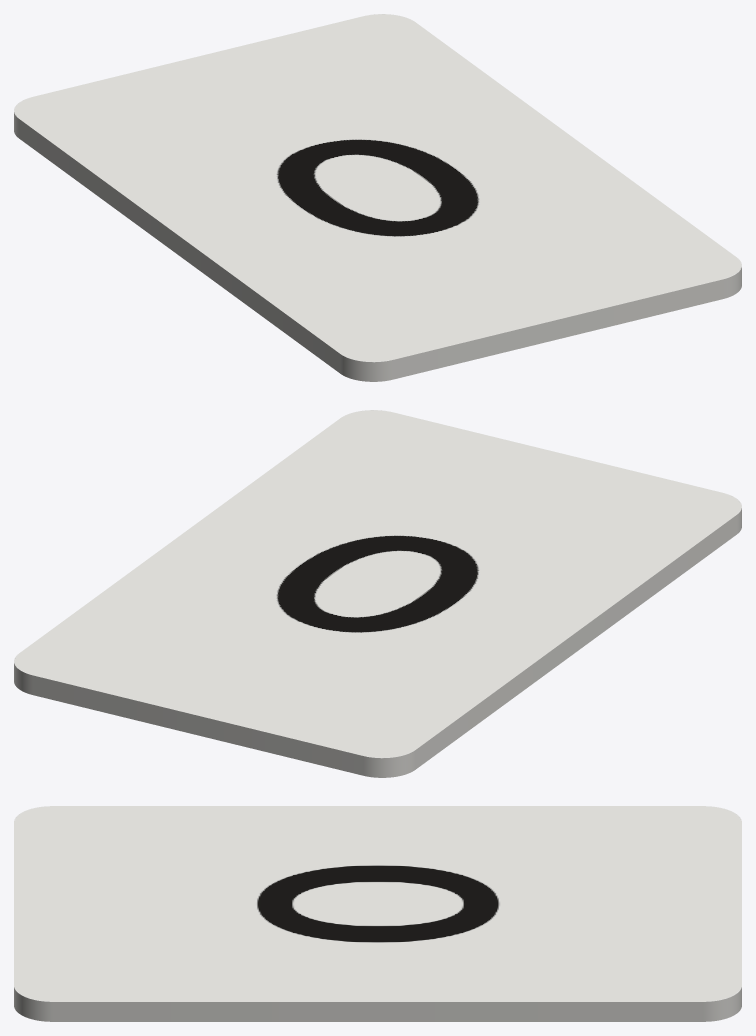
Rendered from white_0.glb.
The picture shows the model from 3 angles, top to bottom: view 1: azimuth 30°, elevation 25°; view 2: azimuth 150°, elevation 25°; view 3: azimuth 270°, elevation 25°; orthographic projection.
Parts seen in each view (by area): view 1: white_0; view 2: white_0; view 3: white_0.
Boxes of the visible parts, x1,y1,x2,y2 form: white_0: (14, 14, 741, 381); white_0: (14, 410, 741, 777); white_0: (14, 806, 741, 1021).
Size of the model in its own units: 0.042 by 0.002 by 0.066.
Materials: 2 (1 with a texture image).
